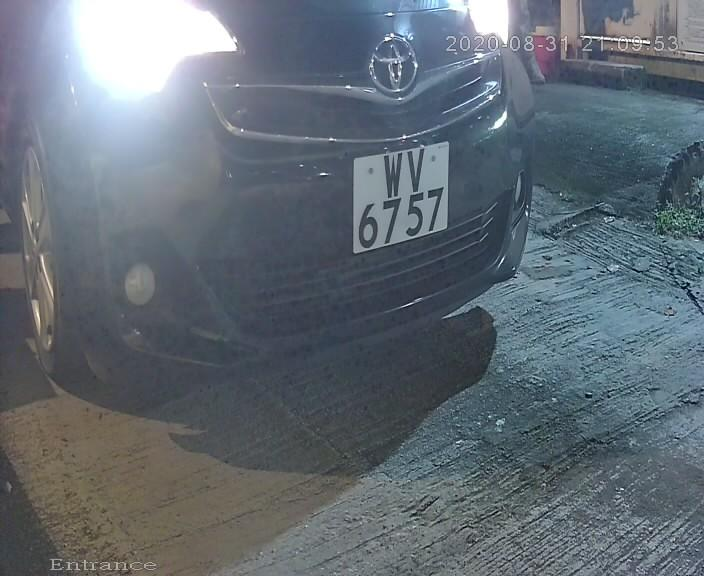License Plate: (337, 124, 456, 271)
